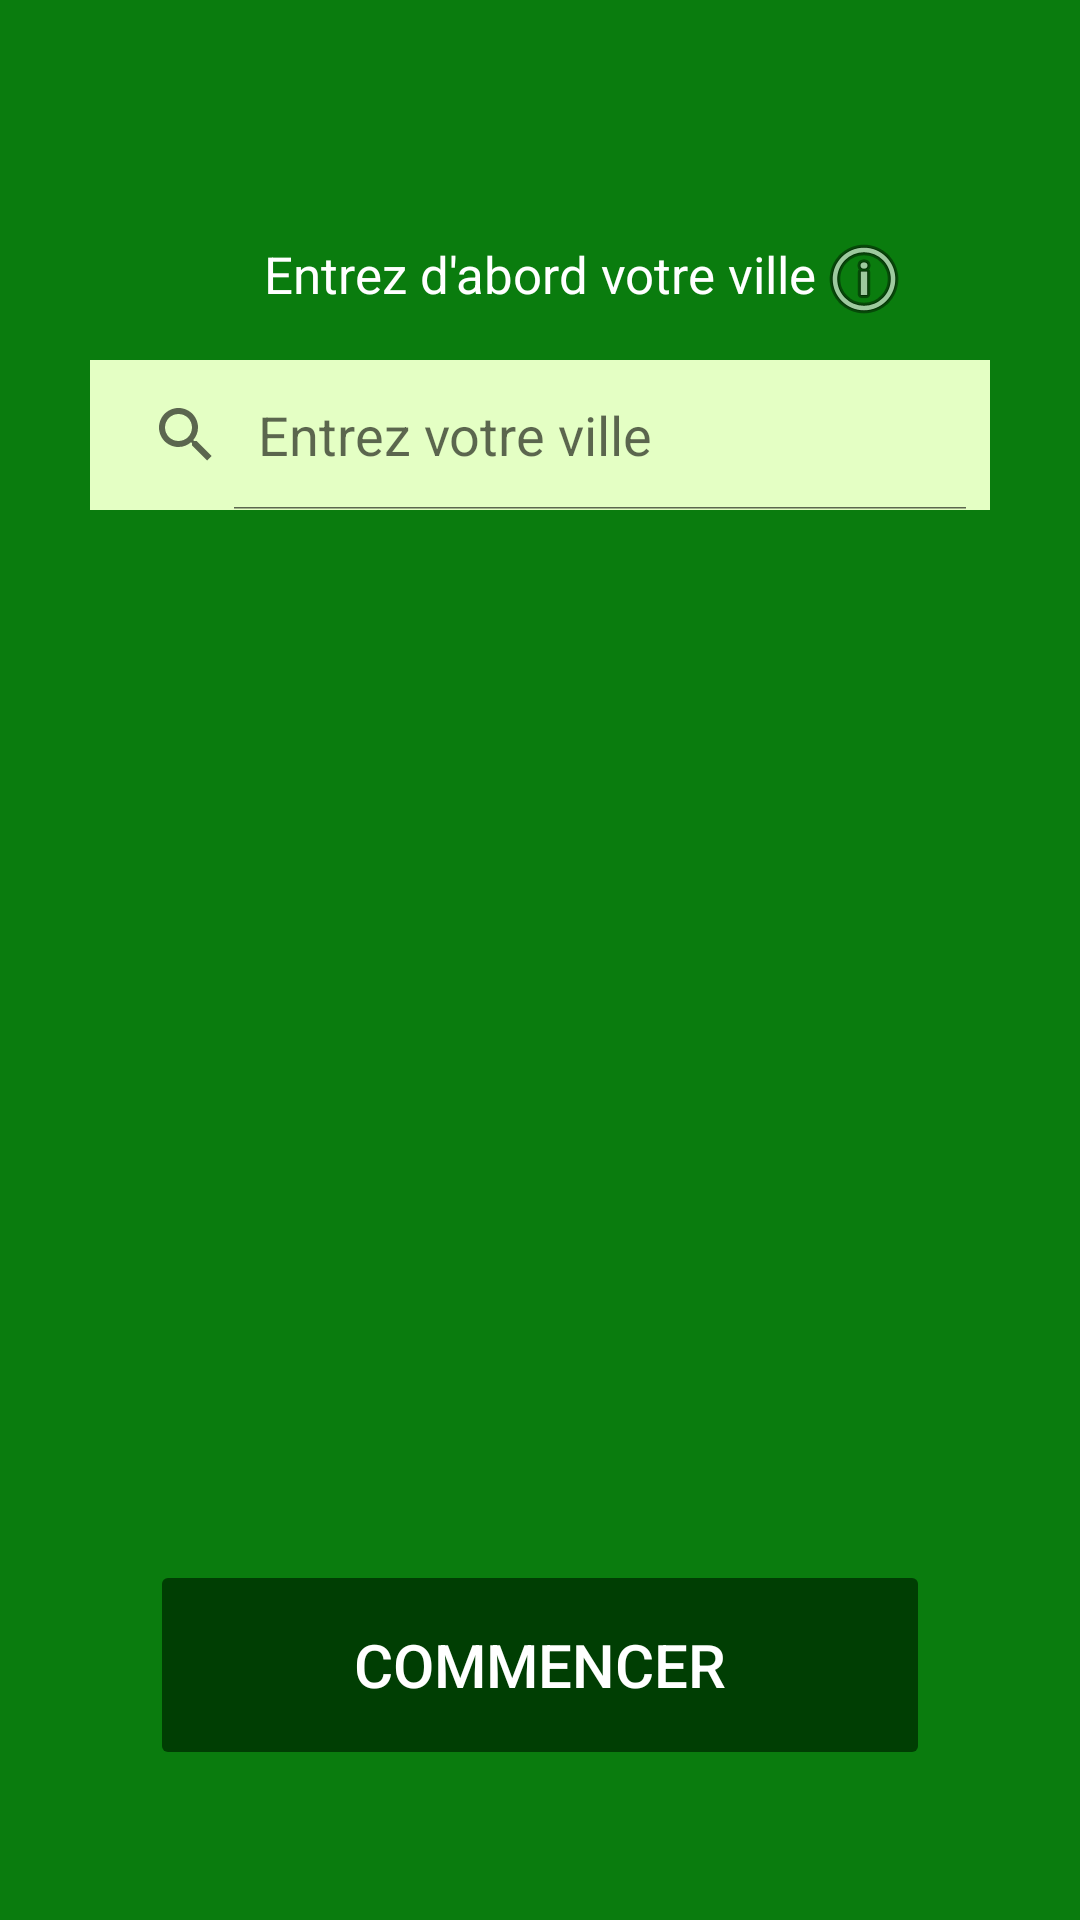

Point at icon controls on the screen. Image size 1080*1920, points as point (x, y).
info details: point (864, 279)
